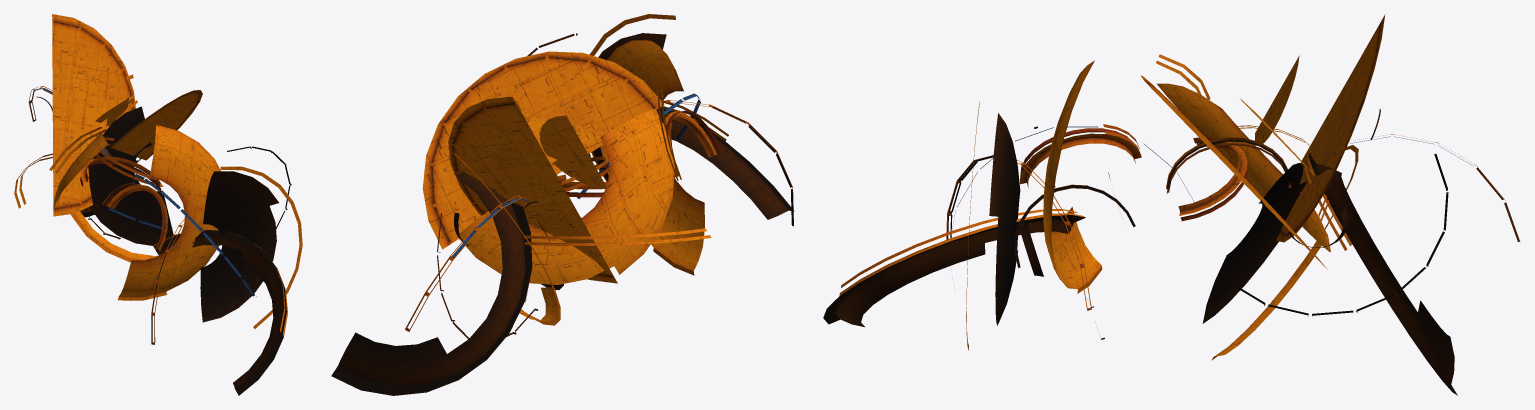
Rendered from MonsterB_Die17.obj.
The picture shows the model from 3 angles, left to right: view 1: azimuth 30°, elevation 25°; view 2: azimuth 150°, elevation 25°; view 3: azimuth 270°, elevation 25°; orthographic projection. The views are drawn at different scales.
Visible parts, largest first — view 1: Sphere001; view 2: Sphere001; view 3: Sphere001.
Part boxes in pixels (box(x1,y1,x2,y2)): Sphere001: box(14, 14, 302, 395); Sphere001: box(331, 14, 794, 395); Sphere001: box(823, 14, 1520, 395).
Bounding box in the file's own units: 254 × 253 × 499.
Materials: 1 (1 with a texture image).
